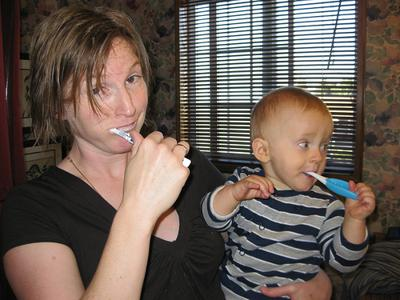person: (2, 2, 235, 300)
